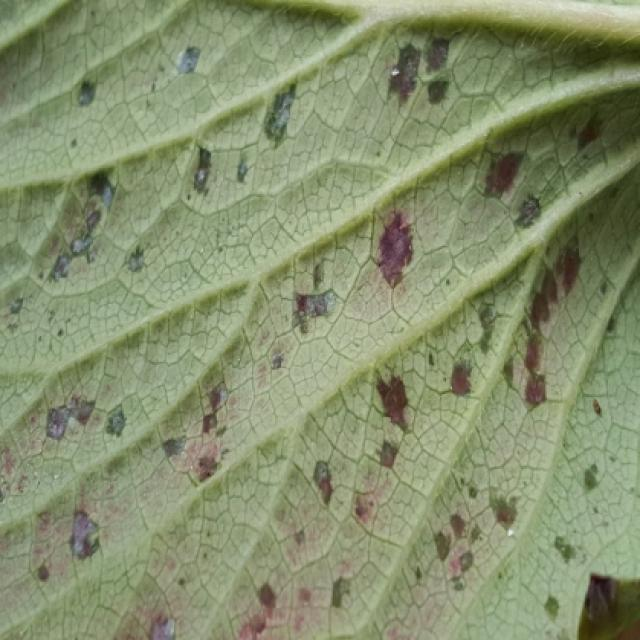Angular Leafspot: (0, 14, 638, 638)
